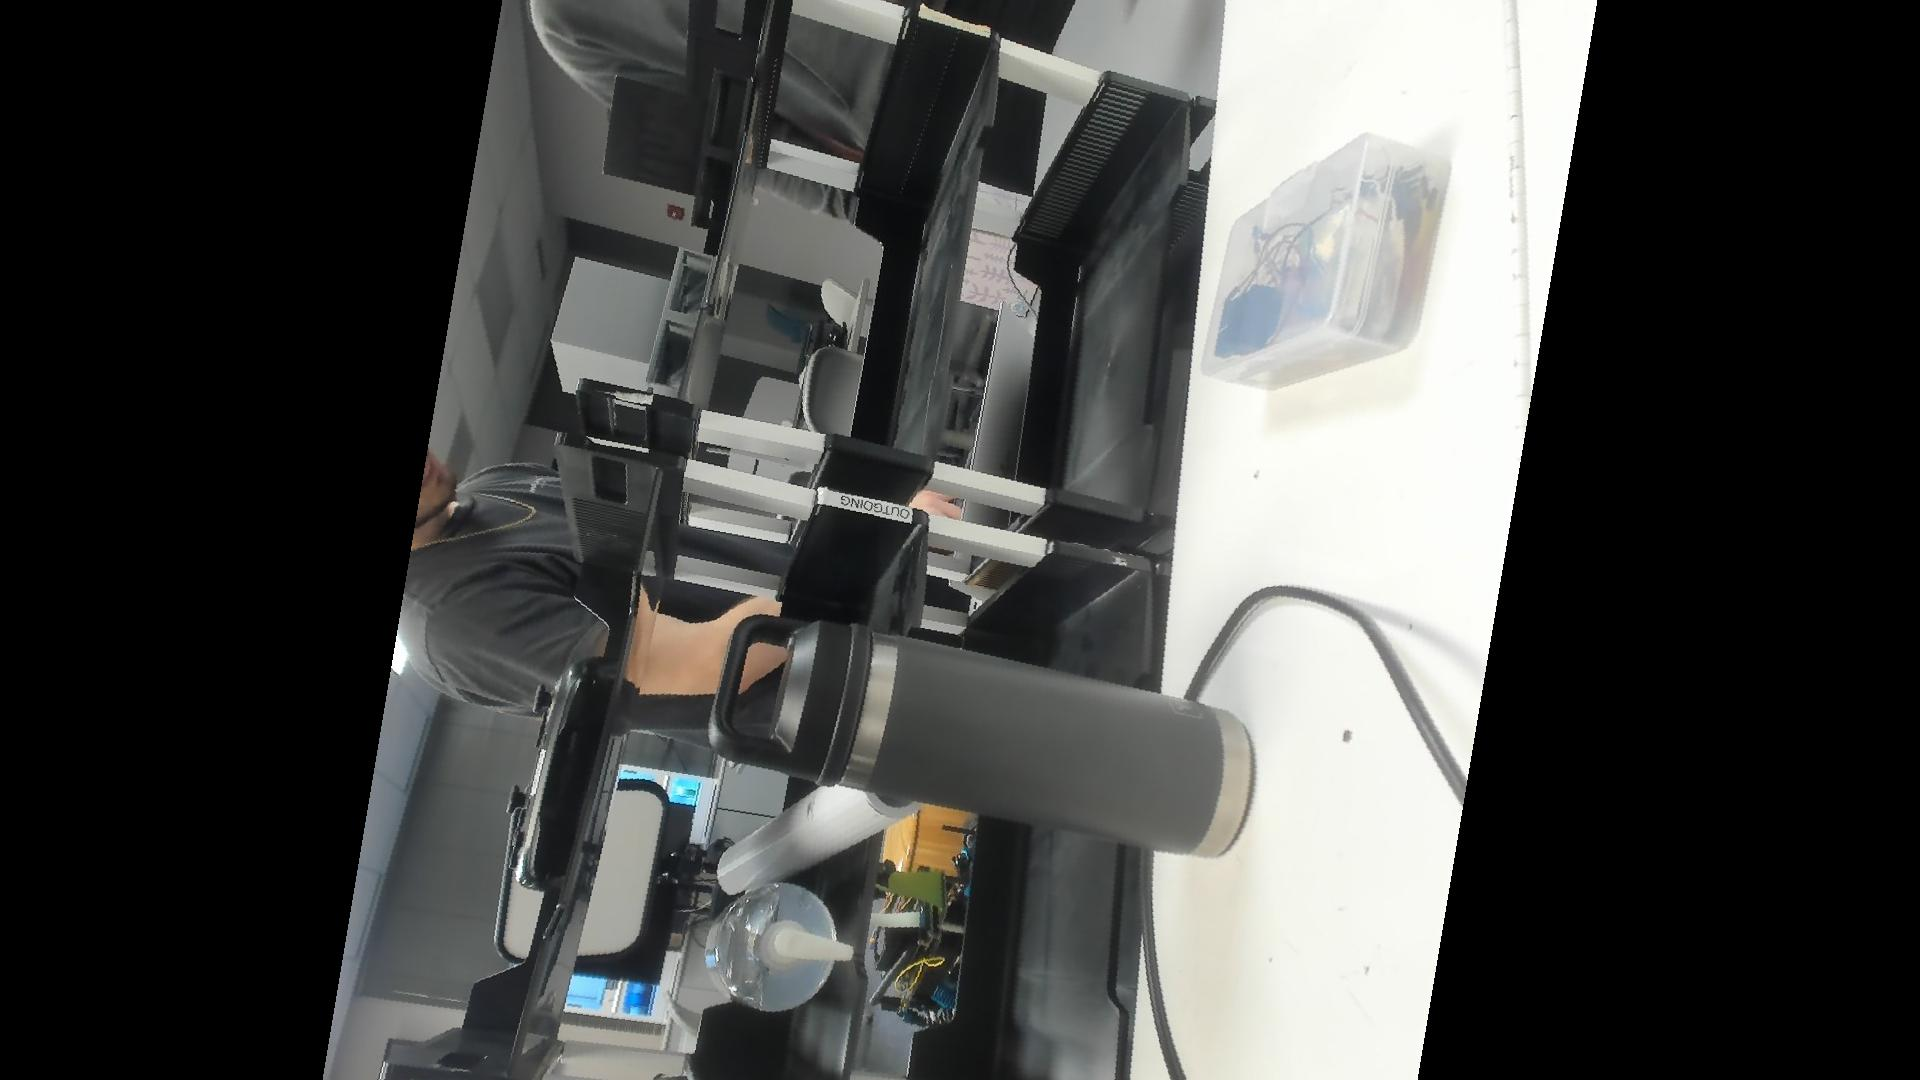black pallet: (593, 61, 767, 231)
grey pallet: (545, 243, 729, 404)
